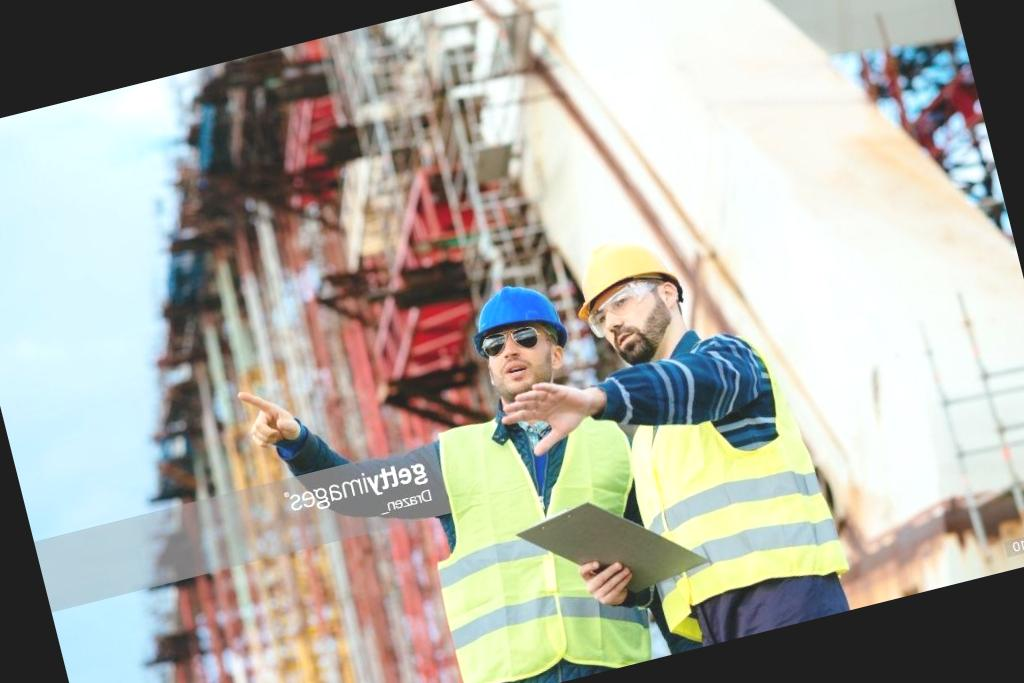helmet: (561, 228, 687, 330), (460, 273, 570, 360)
person: (546, 205, 860, 660), (391, 269, 656, 683)
